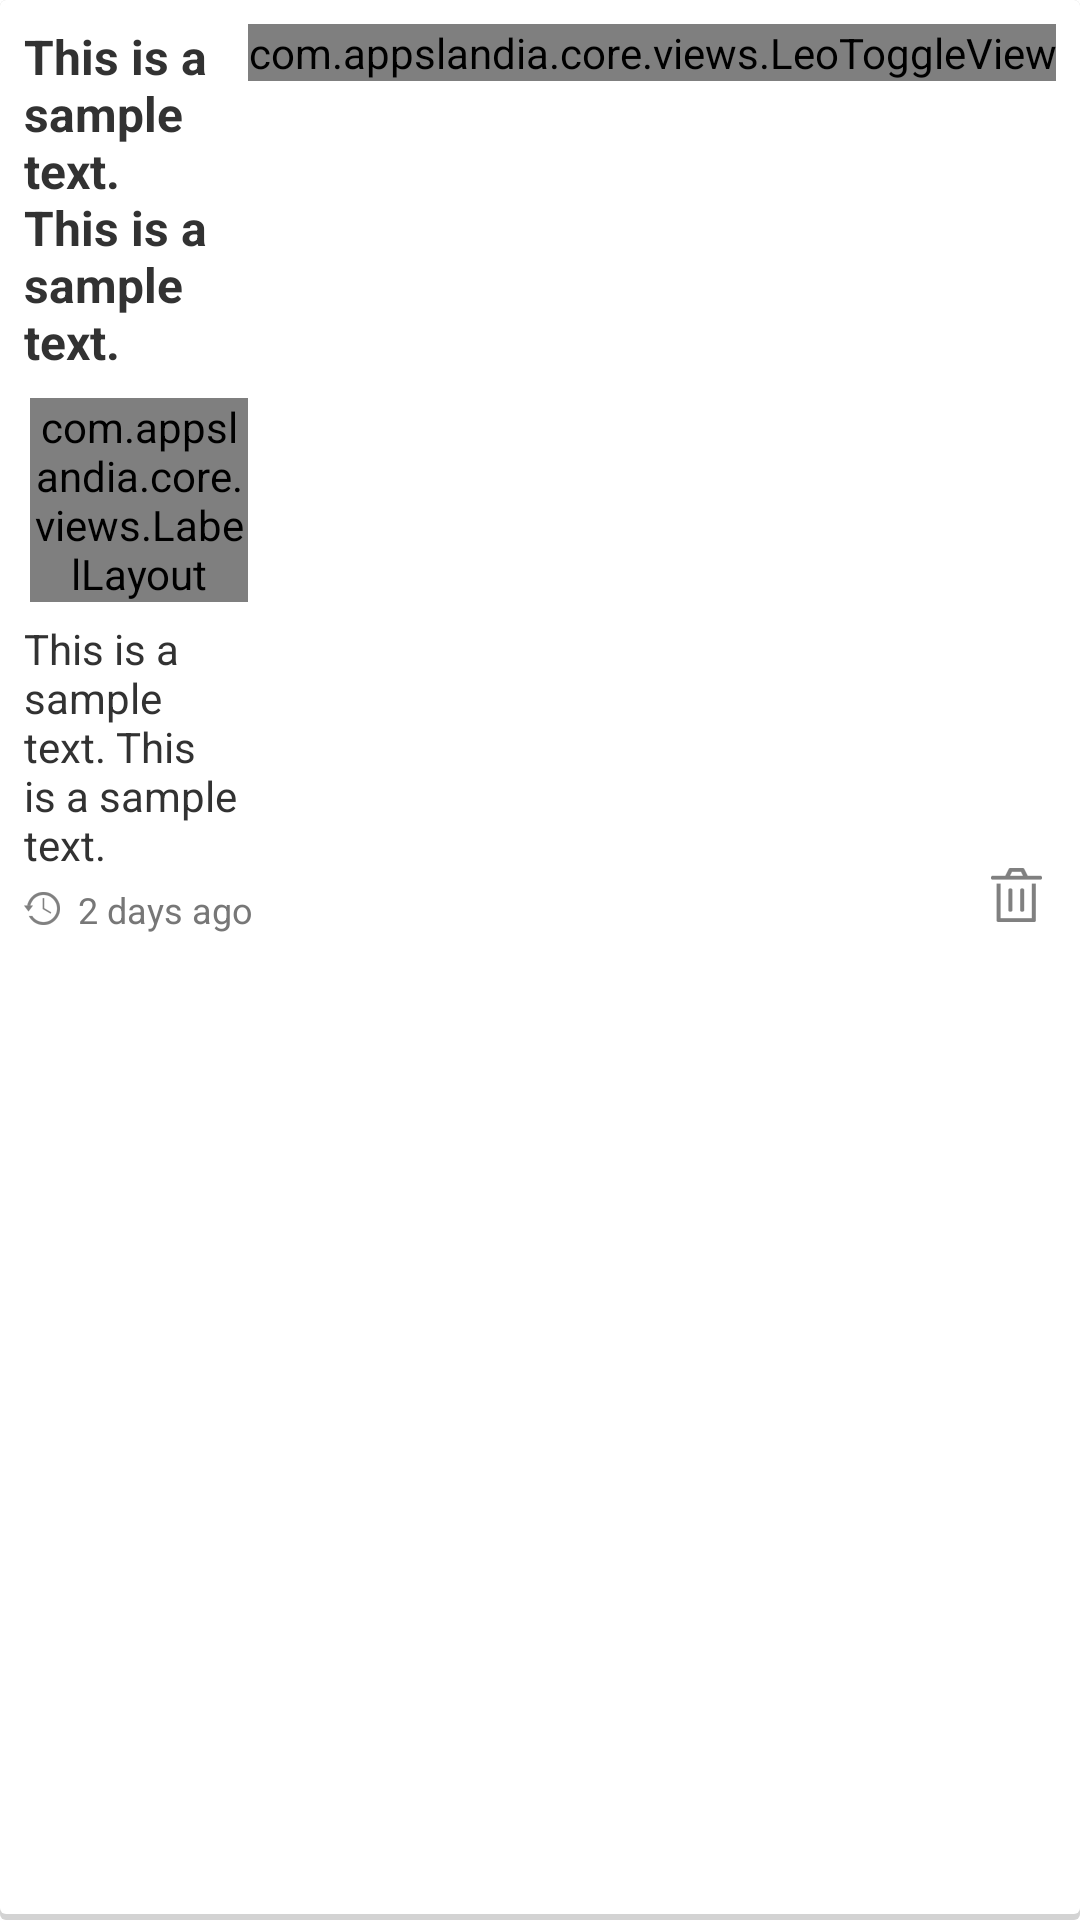

Point at icon controls on the screen. Image size 1080*1920, points as point (x, y).
Delete: point (1016, 895)
